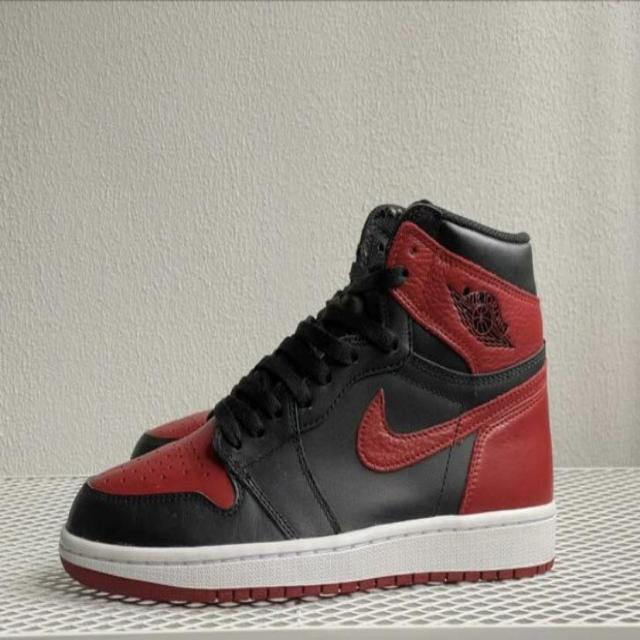shoes: (56, 195, 558, 612)
